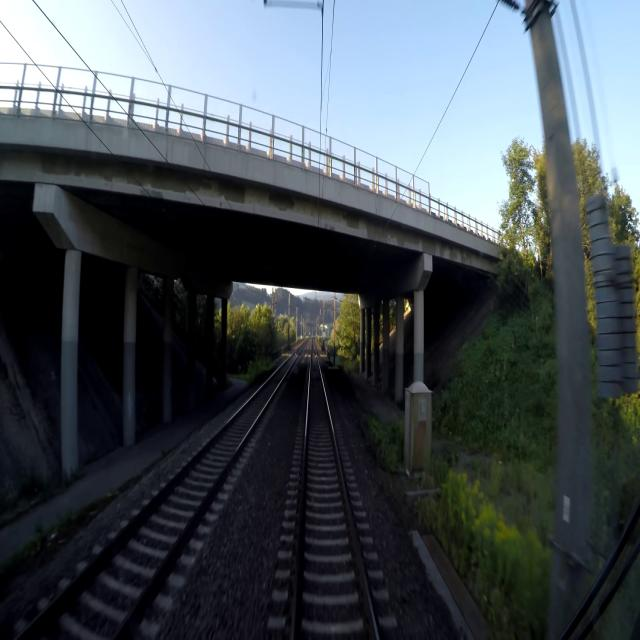rail-track: (20, 354, 295, 639), (294, 356, 375, 639)
